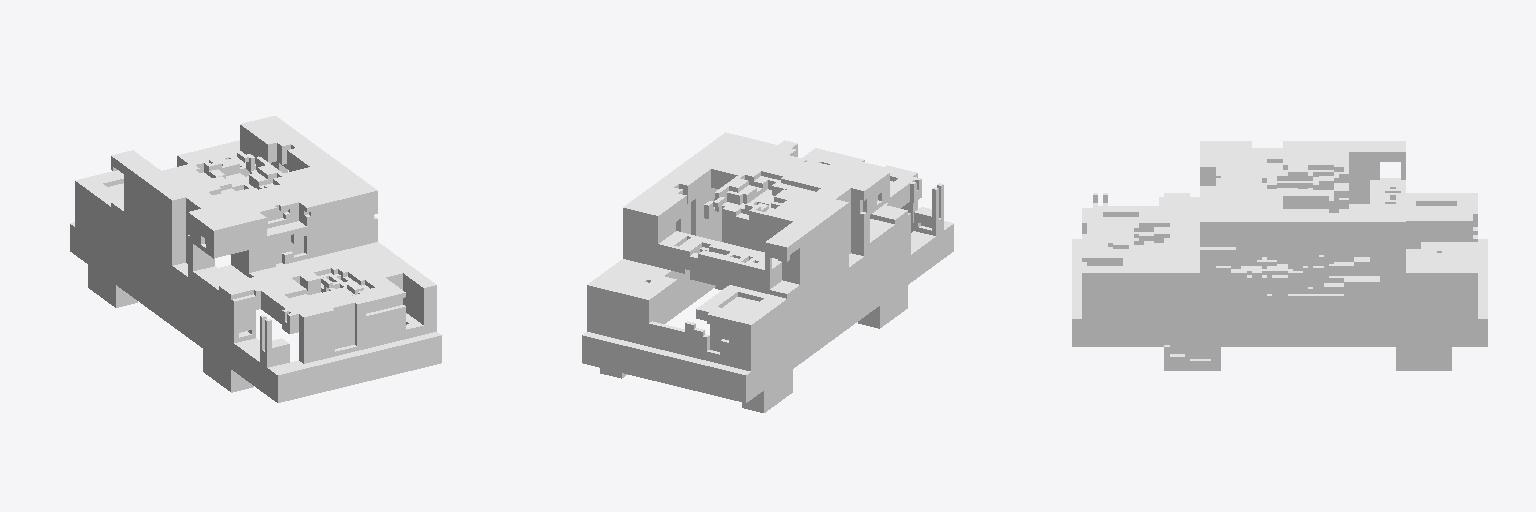
Rendered from recar_1.2.obj.
3 renders of one model, left to right at view 1: azimuth 30°, elevation 25°; view 2: azimuth 150°, elevation 25°; view 3: azimuth 270°, elevation 25°, orthographic.
Bounding box in the file's own units: 37 × 32 × 81.